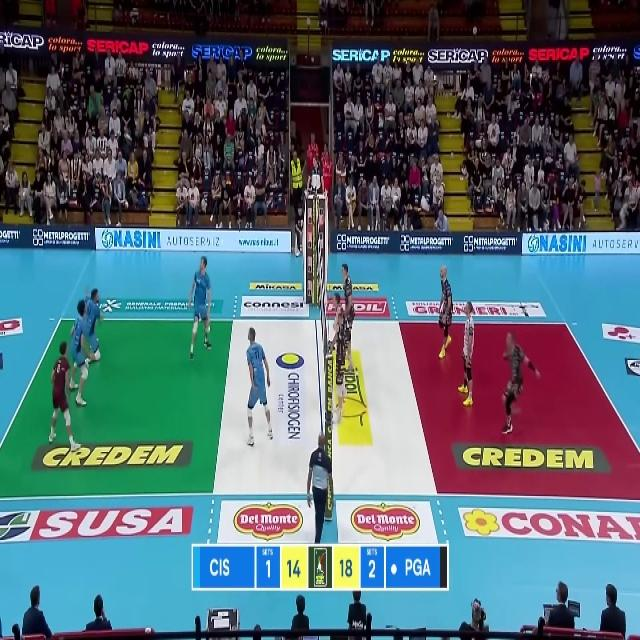volleyball court: (0, 319, 638, 497)
